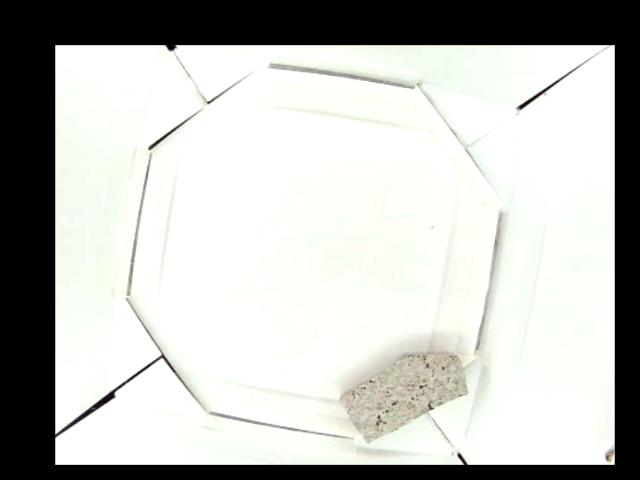China: (340, 351, 470, 442)
